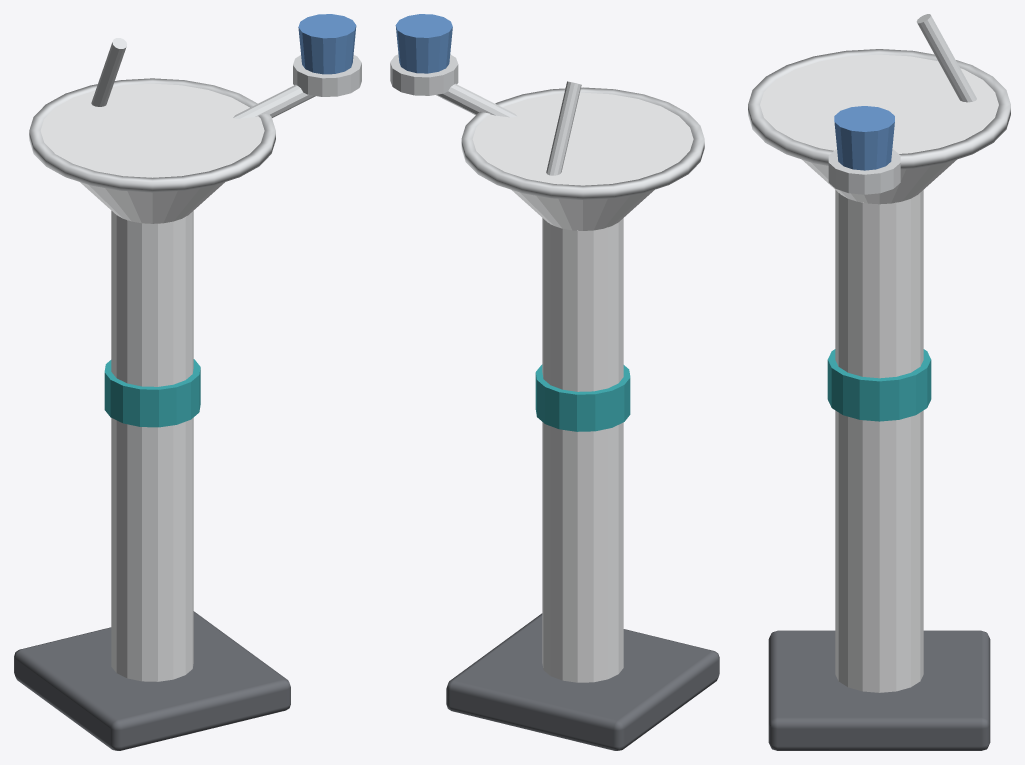
The model's file is spittoon.glb.
3 renders of one model, left to right at view 1: azimuth 30°, elevation 25°; view 2: azimuth 150°, elevation 25°; view 3: azimuth 270°, elevation 25°, orthographic. The views are drawn at different scales.
Visible parts, largest first — view 1: spittoon-unit; view 2: spittoon-unit; view 3: spittoon-unit.
Part boxes in pixels (box(x1,y1,x2,y2)): spittoon-unit: box(14, 14, 361, 750); spittoon-unit: box(390, 14, 719, 750); spittoon-unit: box(748, 14, 1010, 750).
Bounding box in the file's own units: 0.508 × 1.02 × 0.356.
